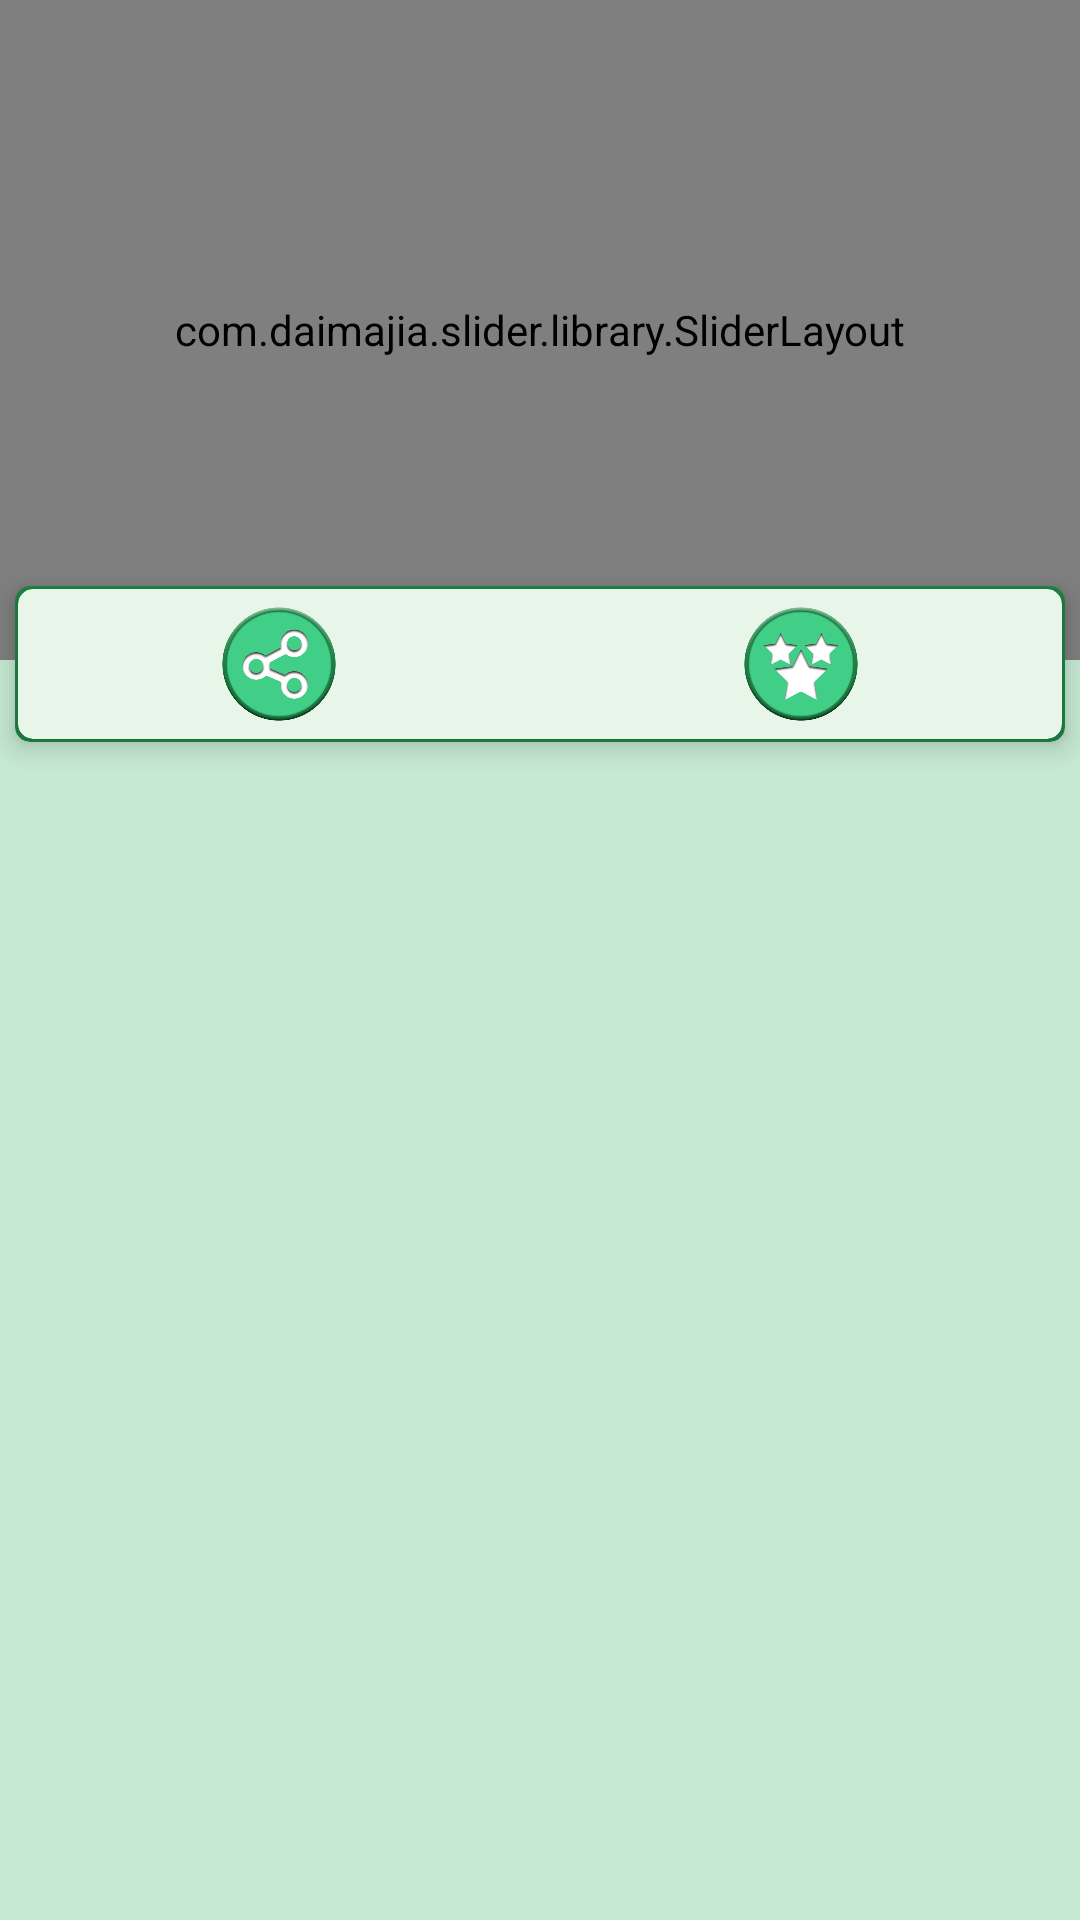

Icon bounding boxes for this 1080 × 1920 phone screenshot, format bbox=[x1, y1, x2, y2]:
rate: bbox=[744, 607, 858, 721]
share: bbox=[222, 607, 336, 721]
